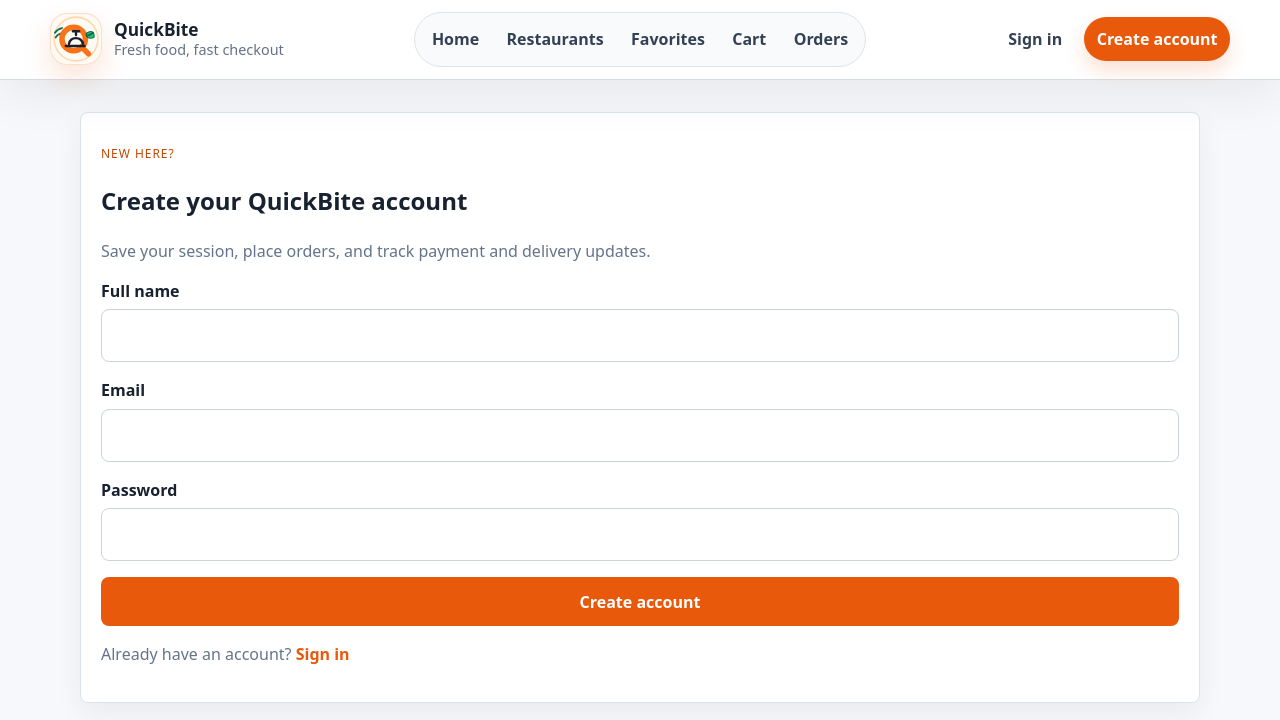
Test: QuickBite app shell › signs users in after successful account creation
Type "New Customer" into the field labelled "Full name". click: (640,336)
box: [101,309,1179,362]
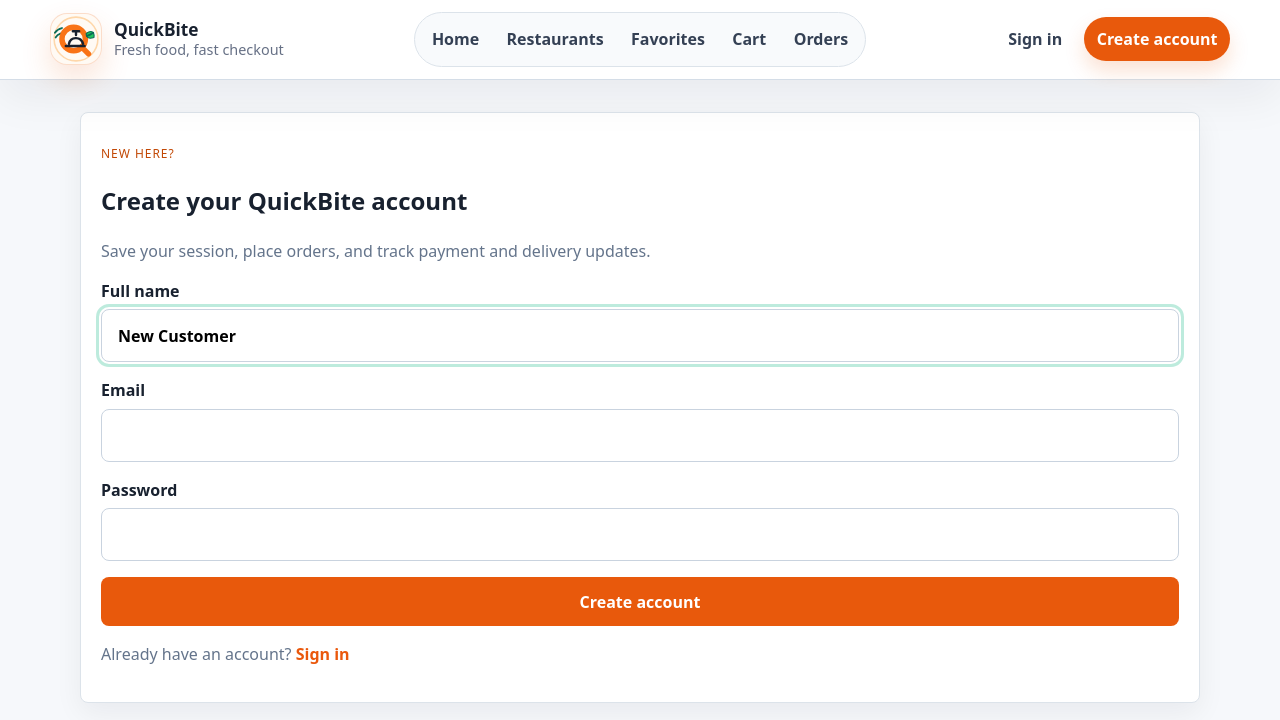
Type "new.customer@quickbite.local" into the field labelled "Email". click: (640,435)
box: [101,408,1179,462]
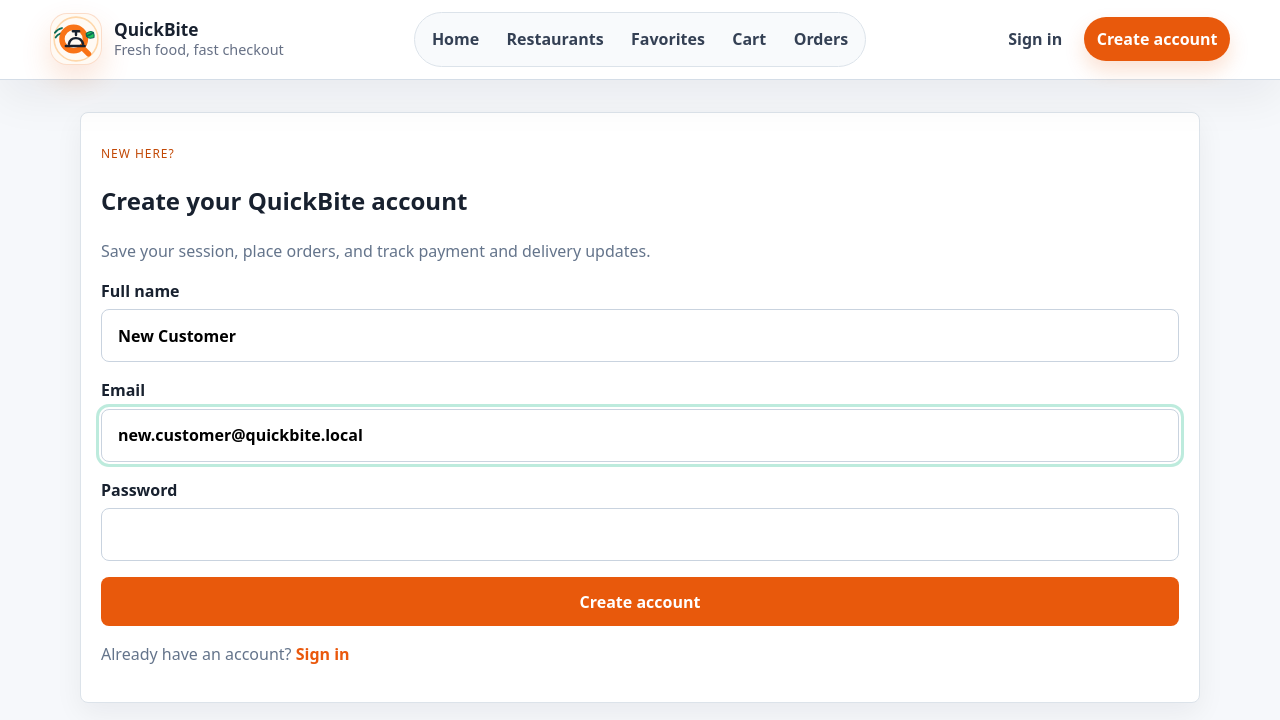
Type "Pass123!" into the password field labelled "Password". click: (640,535)
box: [101,508,1179,561]
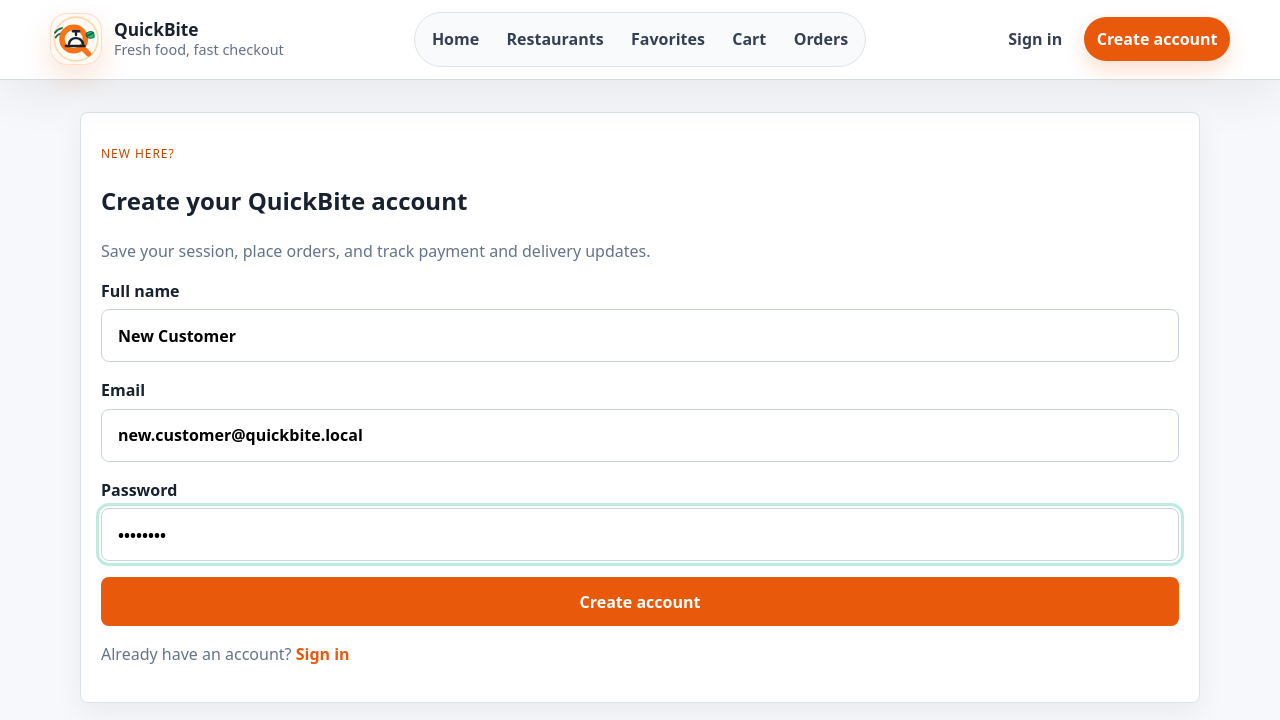
Click the button "Create account". click: (640,602)
box: [101,577,1179,626]
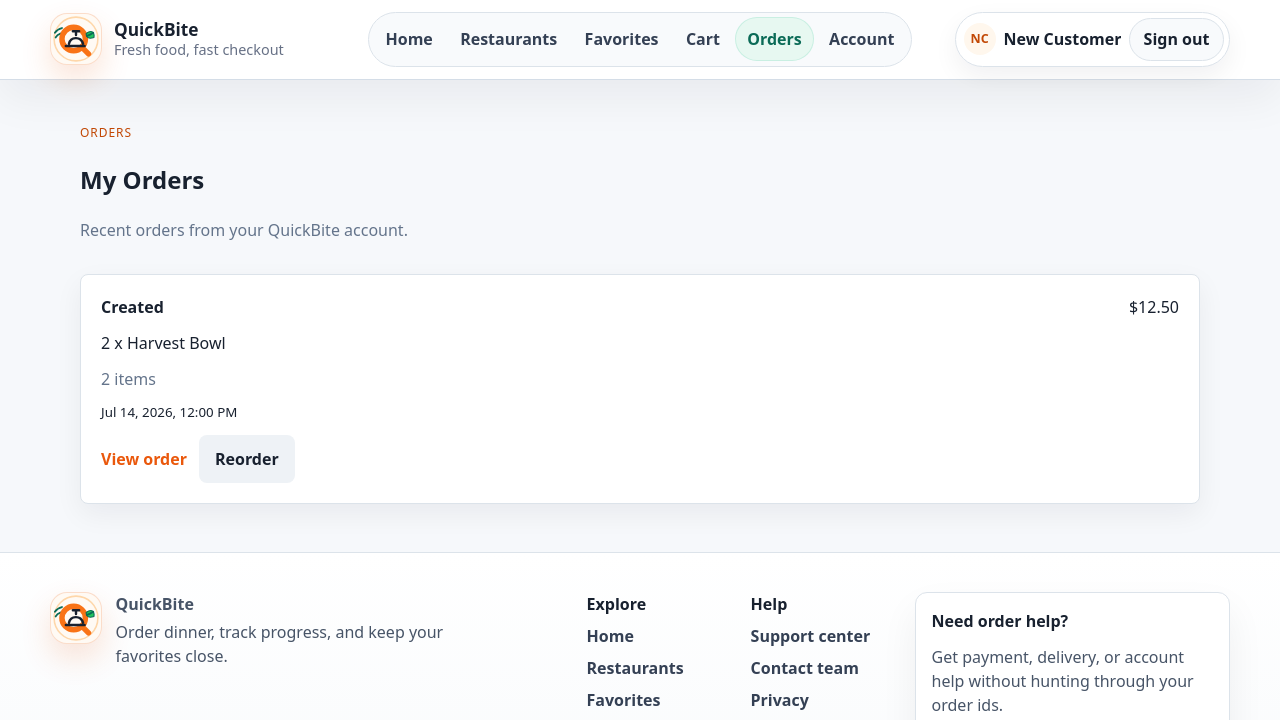
Expected: the heading "My Orders" is shown, [80,163,204,196]
Expected: the text "New Customer" is shown, [1004,27,1121,51]
